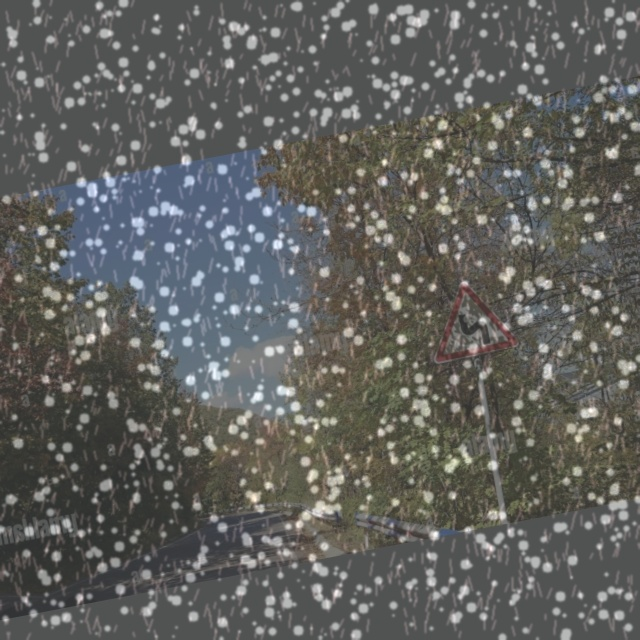Left_Reverse_Bend: (419, 270, 520, 370)
